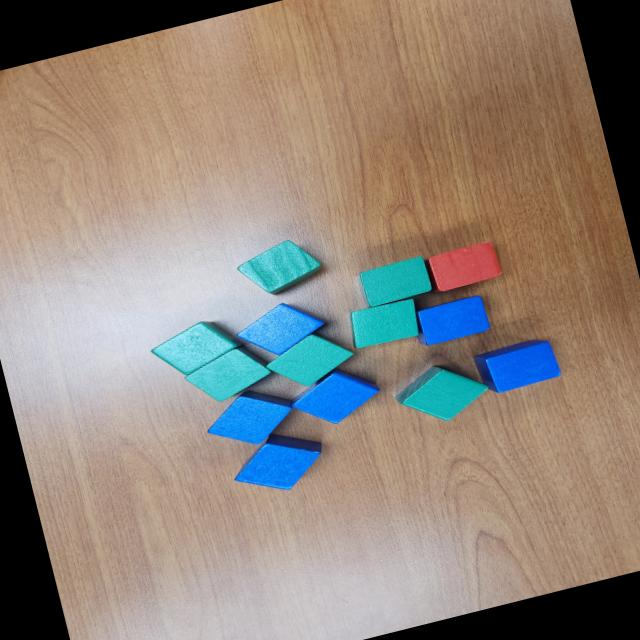blue: (225, 422, 330, 500), (229, 293, 335, 368), (197, 380, 301, 456), (284, 358, 386, 432), (469, 333, 564, 398), (408, 294, 492, 349)
green: (388, 352, 492, 432), (259, 324, 360, 396), (230, 232, 331, 302), (147, 313, 248, 382), (180, 339, 277, 409), (344, 294, 424, 352), (357, 252, 434, 310)
red: (427, 239, 503, 294)
